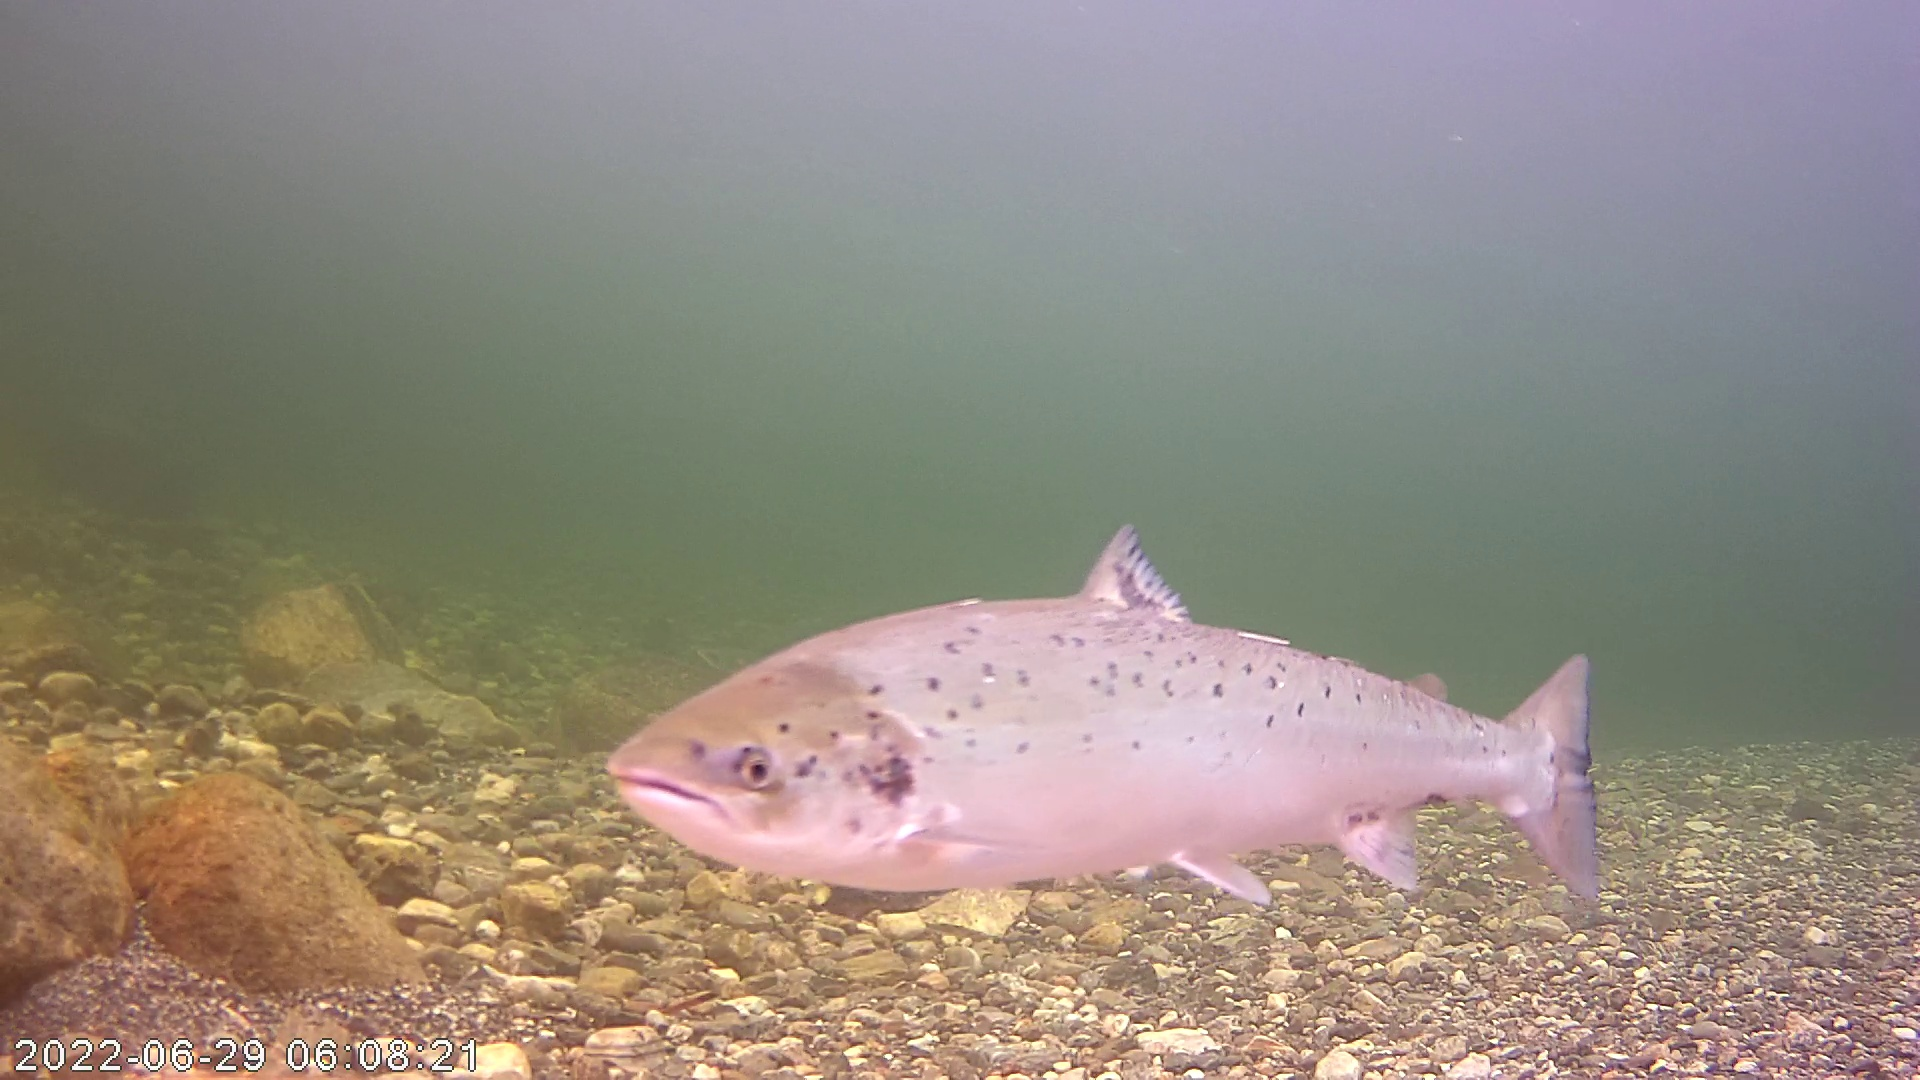salmon: (597, 469, 1604, 916)
